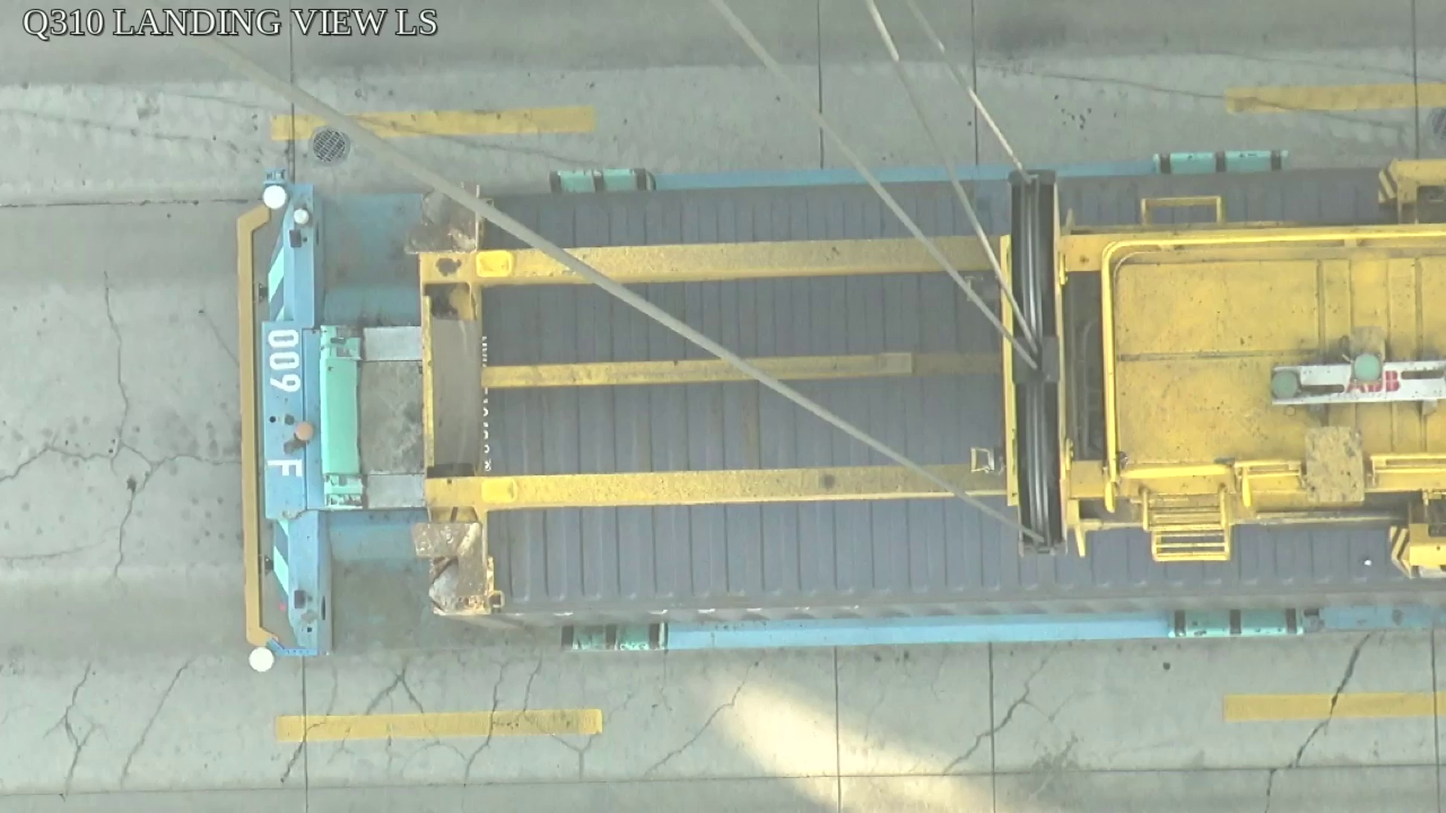aa: (998, 173, 1072, 554)
